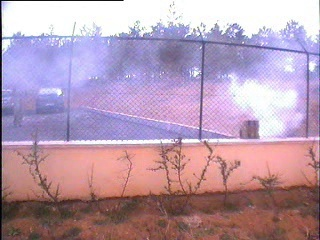smoke: (215, 26, 310, 139)
